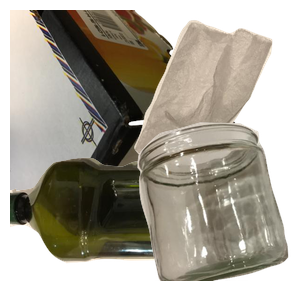cardboard: (10, 10, 238, 190)
glass: (135, 120, 300, 300)
plastic: (10, 149, 250, 300)
trash: (132, 17, 300, 177)
